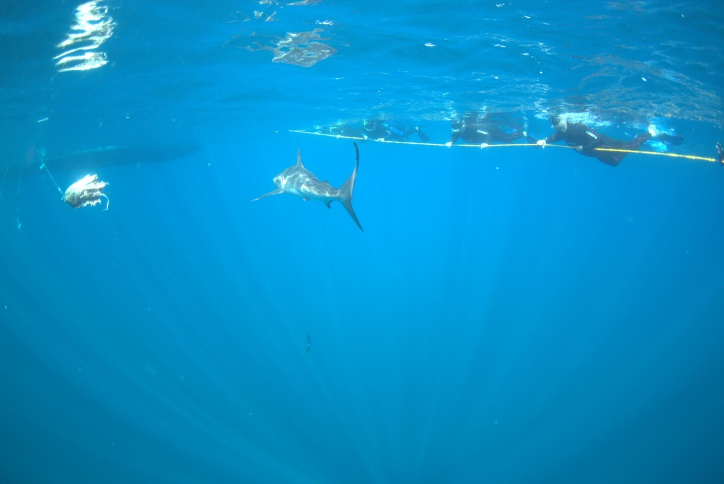Sedoso: (236, 135, 383, 247)
